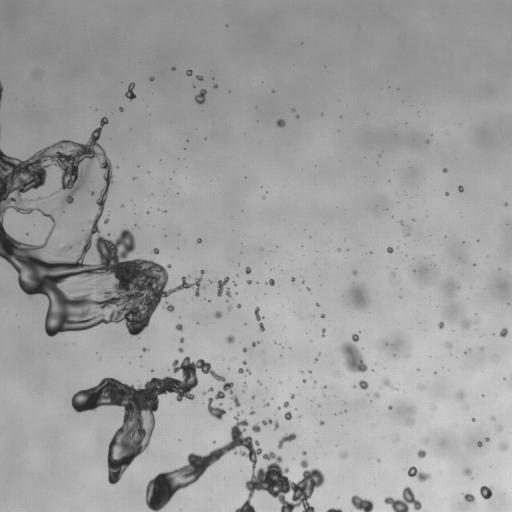droplet: (384, 486, 421, 511), (351, 285, 369, 310), (351, 495, 373, 511), (194, 89, 206, 104), (443, 282, 459, 293), (480, 486, 492, 499), (463, 493, 475, 503), (462, 320, 472, 329), (358, 380, 368, 389), (455, 391, 465, 400), (498, 442, 508, 451), (417, 449, 426, 458), (276, 119, 285, 127), (499, 328, 507, 337), (252, 423, 260, 432), (226, 335, 234, 343), (165, 304, 174, 311), (284, 411, 291, 420), (214, 311, 222, 318), (464, 468, 471, 475), (152, 248, 159, 254), (267, 279, 274, 285), (438, 321, 444, 328), (340, 452, 347, 458), (251, 341, 259, 346), (245, 267, 251, 273), (176, 324, 182, 330), (373, 392, 379, 398), (196, 75, 203, 80), (186, 70, 192, 75), (458, 186, 463, 192), (387, 247, 392, 253), (445, 342, 451, 347), (283, 401, 288, 407), (196, 238, 201, 243), (178, 347, 183, 352), (477, 441, 482, 446), (290, 393, 294, 399), (263, 402, 269, 406), (322, 329, 325, 336), (291, 277, 295, 282), (227, 305, 231, 310), (382, 342, 387, 346), (142, 347, 147, 351), (243, 347, 247, 352), (208, 387, 213, 391), (319, 421, 324, 425), (213, 84, 217, 88), (119, 107, 123, 111), (443, 168, 447, 172), (90, 191, 94, 195), (104, 219, 108, 223), (352, 270, 356, 274), (247, 280, 251, 284), (237, 304, 241, 308), (257, 380, 261, 384), (419, 385, 423, 389), (251, 395, 255, 399), (250, 410, 254, 414), (498, 426, 502, 430), (485, 437, 489, 441), (302, 451, 306, 455), (180, 337, 183, 342), (445, 192, 448, 196), (321, 314, 325, 317), (242, 361, 246, 364), (491, 417, 495, 420), (410, 420, 413, 424), (172, 67, 175, 70), (150, 77, 153, 80), (480, 347, 483, 350), (314, 358, 317, 361), (303, 379, 306, 382), (243, 383, 246, 386), (277, 406, 280, 409), (504, 203, 507, 205), (121, 204, 123, 207), (202, 392, 205, 394), (472, 418, 474, 421), (406, 233, 408, 235), (78, 240, 80, 242), (307, 288, 309, 290), (316, 303, 318, 305), (301, 371, 303, 373), (324, 386, 326, 388), (229, 407, 231, 409), (389, 406, 391, 408), (432, 406, 434, 408), (395, 439, 397, 441), (424, 440, 426, 442)
ligament: (0, 117, 204, 337), (71, 356, 239, 484), (145, 411, 324, 511), (341, 333, 367, 372), (408, 466, 430, 481), (278, 433, 296, 448), (217, 276, 229, 296), (254, 307, 264, 331), (56, 244, 72, 256), (125, 82, 135, 100), (262, 419, 278, 429), (382, 379, 395, 389), (0, 81, 3, 102), (238, 368, 250, 373), (326, 508, 342, 511), (226, 289, 231, 297), (399, 221, 405, 226)
